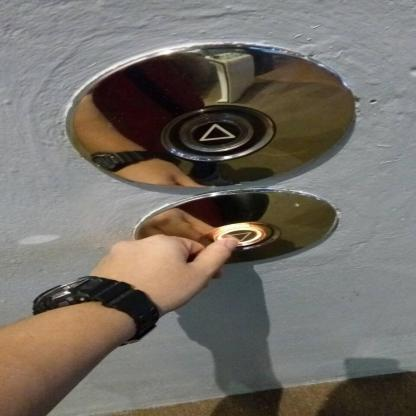down: (206, 222, 284, 249)
up: (157, 104, 279, 165)
